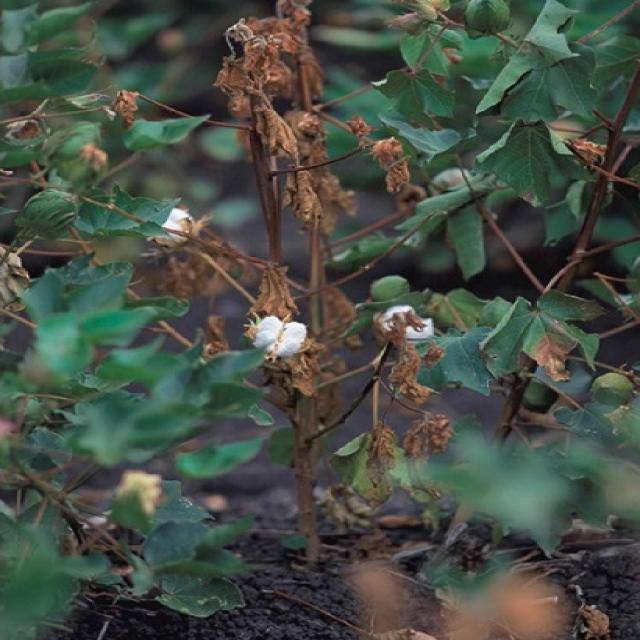Fusarium Wilt: (4, 6, 584, 640)
